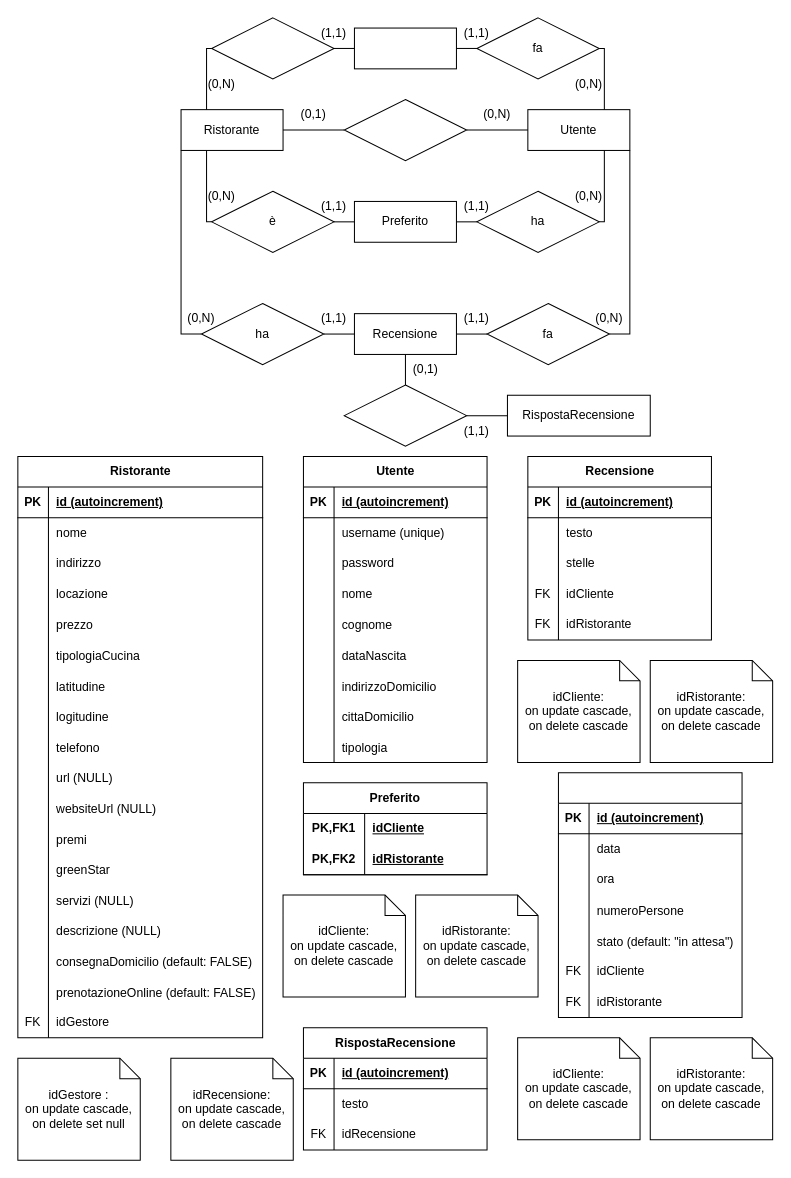
Image size: 791x1178. Some labels were removed from this diagram. The box of each missing label's shape, as (x1, y1, x2, y2) in pixels:
controlla: (211, 17, 334, 79)
gestisce: (343, 98, 467, 161)
Prenotazione: (353, 27, 456, 69)
Prentazione: (557, 772, 742, 1017)
relazione: (343, 384, 467, 446)
